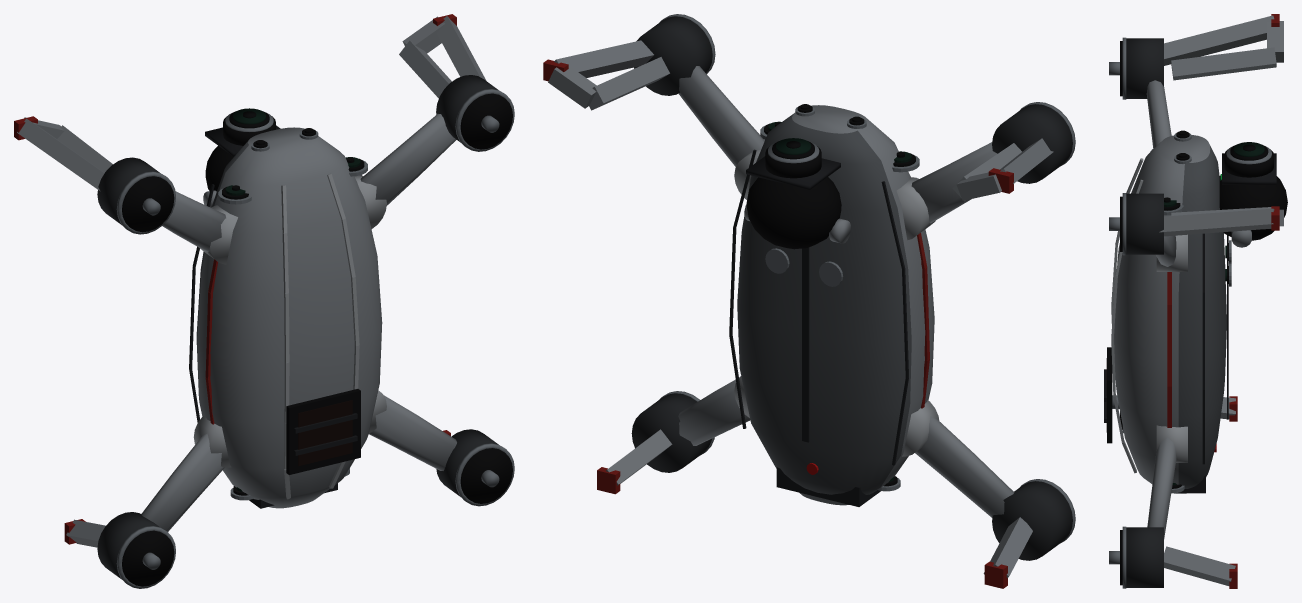
The model's file is body.obj.
3 renders of one model, left to right at view 1: azimuth 30°, elevation 25°; view 2: azimuth 150°, elevation 25°; view 3: azimuth 270°, elevation 25°, orthographic. The views are drawn at different scales.
Parts seen in each view (by area): view 1: Body_Shell, Body_Vent, Motor_FL, Motor_RL, Motor_FR, Arm_RL, Arm_FR, Motor_RR, Body_Details, Arm_RR, Leg_FR, Leg_FL (+6 smaller); view 2: Body_Shell, Gimbal_Camera, Leg_FR, Arm_RL, Body_Details, Arm_FR, Motor_RL, Motor_FR, Motor_FL, Arm_FL, Motor_RR, Leg_FL (+7 smaller); view 3: Body_Shell, Leg_FL, Gimbal_Camera, Motor_FR, Motor_RR, Leg_FR, Motor_FL, Arm_RR, Body_Details, Leg_RR, Arm_FL, Arm_FR (+5 smaller).
Boxes of the visible parts, x1,y1,x2,y2 form: Body_Shell: [196, 127, 382, 508]; Body_Vent: [286, 389, 360, 474]; Motor_FL: [97, 157, 175, 234]; Motor_RL: [97, 512, 175, 588]; Motor_FR: [436, 75, 514, 151]; Arm_RL: [141, 415, 231, 531]; Arm_FR: [354, 114, 456, 228]; Motor_RR: [436, 429, 514, 506]; Body_Details: [189, 173, 359, 508]; Arm_RR: [368, 390, 456, 470]; Leg_FR: [399, 14, 486, 98]; Leg_FL: [14, 116, 112, 191]; Body_Shell: [737, 105, 934, 505]; Gimbal_Camera: [744, 146, 850, 249]; Leg_FR: [543, 40, 669, 110]; Arm_RL: [902, 400, 1014, 517]; Body_Details: [729, 149, 908, 506]; Arm_FR: [678, 66, 764, 199]; Motor_RL: [992, 479, 1075, 560]; Motor_FR: [634, 14, 715, 95]; Motor_FL: [992, 102, 1075, 183]; Arm_FL: [896, 142, 997, 240]; Motor_RR: [631, 391, 714, 472]; Leg_FL: [952, 138, 1053, 201]; Body_Shell: [1114, 135, 1226, 493]; Leg_FL: [1164, 14, 1283, 80]; Gimbal_Camera: [1219, 149, 1287, 247]; Motor_FR: [1109, 193, 1163, 255]; Motor_RR: [1109, 526, 1163, 588]; Leg_FR: [1159, 206, 1283, 236]; Motor_FL: [1109, 37, 1163, 99]; Arm_RR: [1147, 425, 1187, 538]; Body_Details: [1111, 158, 1228, 493]; Leg_RR: [1164, 546, 1237, 588]; Arm_FL: [1146, 80, 1171, 148]; Arm_FR: [1156, 234, 1187, 271].
Size of the model in its own units: 0.2268 by 0.2075 by 0.0873.
